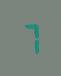seven: (19, 20, 40, 55)
